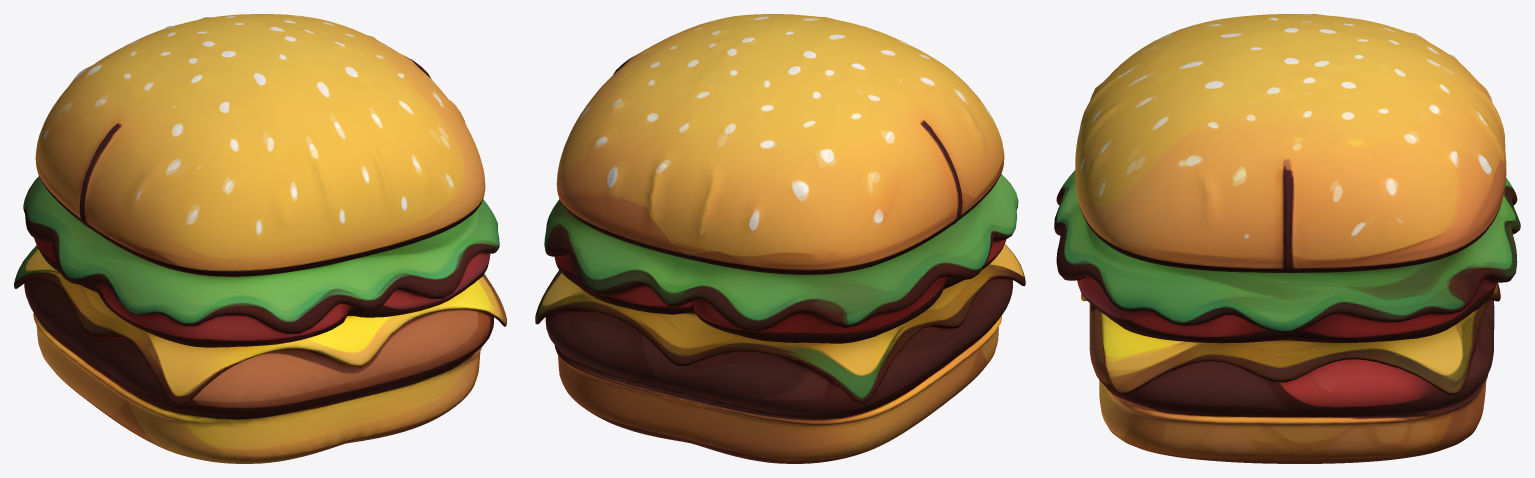
File: burger_colored.obj
3 views of the same model, side by side, from view 1: azimuth 30°, elevation 25°; view 2: azimuth 150°, elevation 25°; view 3: azimuth 270°, elevation 25° (orthographic). The views are drawn at different scales.
Bounding box in the file's own units: 1.9 × 1.61 × 1.89.
